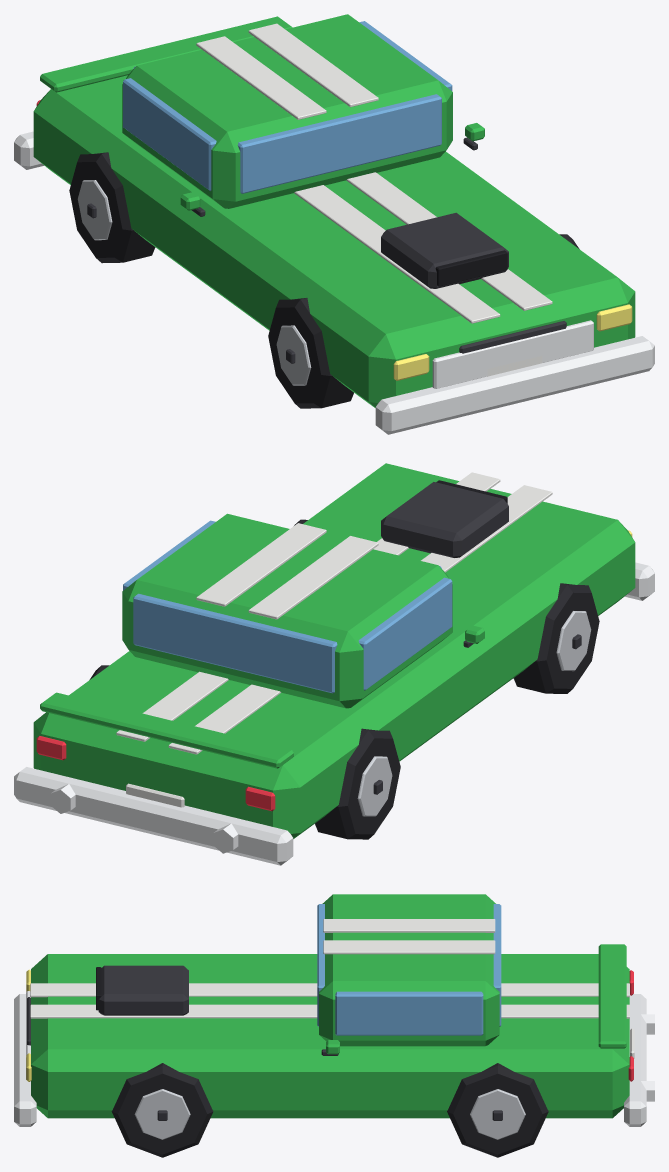
Rendered from GreenMuscleCar.fbx.
3 renders of one model, top to bottom at view 1: azimuth 30°, elevation 25°; view 2: azimuth 150°, elevation 25°; view 3: azimuth 270°, elevation 25°, orthographic. The views are drawn at different scales.
Parts seen in each view (by area): view 1: GreenMuscleCar, GreenMuscleCar_WheelFR, GreenMuscleCar_WheelBR; view 2: GreenMuscleCar, GreenMuscleCar_WheelBR, GreenMuscleCar_WheelFR; view 3: GreenMuscleCar, GreenMuscleCar_WheelBL, GreenMuscleCar_WheelFL.
Boxes of the visible parts, bbox=[...] form: GreenMuscleCar: bbox=[14, 14, 654, 434]; GreenMuscleCar_WheelFR: bbox=[268, 298, 353, 408]; GreenMuscleCar_WheelBR: bbox=[69, 152, 155, 263]; GreenMuscleCar: bbox=[14, 463, 654, 865]; GreenMuscleCar_WheelBR: bbox=[315, 728, 400, 839]; GreenMuscleCar_WheelFR: bbox=[513, 583, 599, 693]; GreenMuscleCar: bbox=[14, 894, 654, 1126]; GreenMuscleCar_WheelBL: bbox=[447, 1063, 548, 1157]; GreenMuscleCar_WheelFL: bbox=[111, 1063, 213, 1157].
Size of the model in its own units: 5.15 by 3.28 by 11.35.
Materials: 1 (1 with a texture image).
